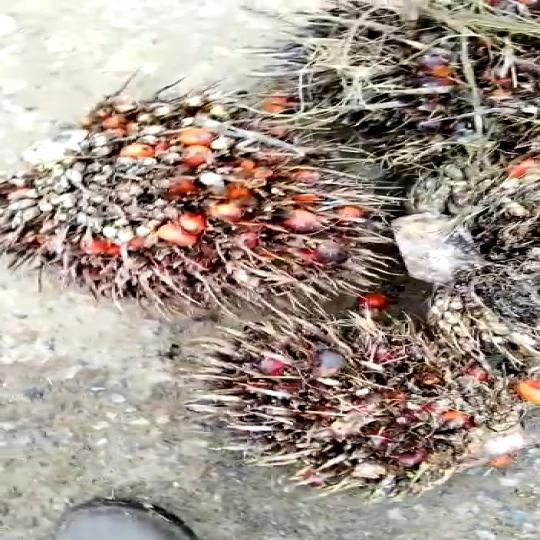terlalu masak: (0, 85, 374, 278), (182, 321, 540, 481)
